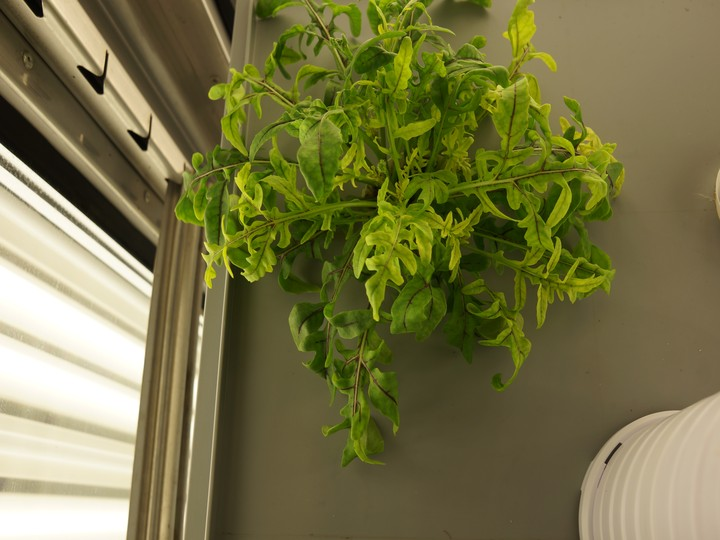roquette_sauvage_red_veined: (176, 5, 636, 470)
